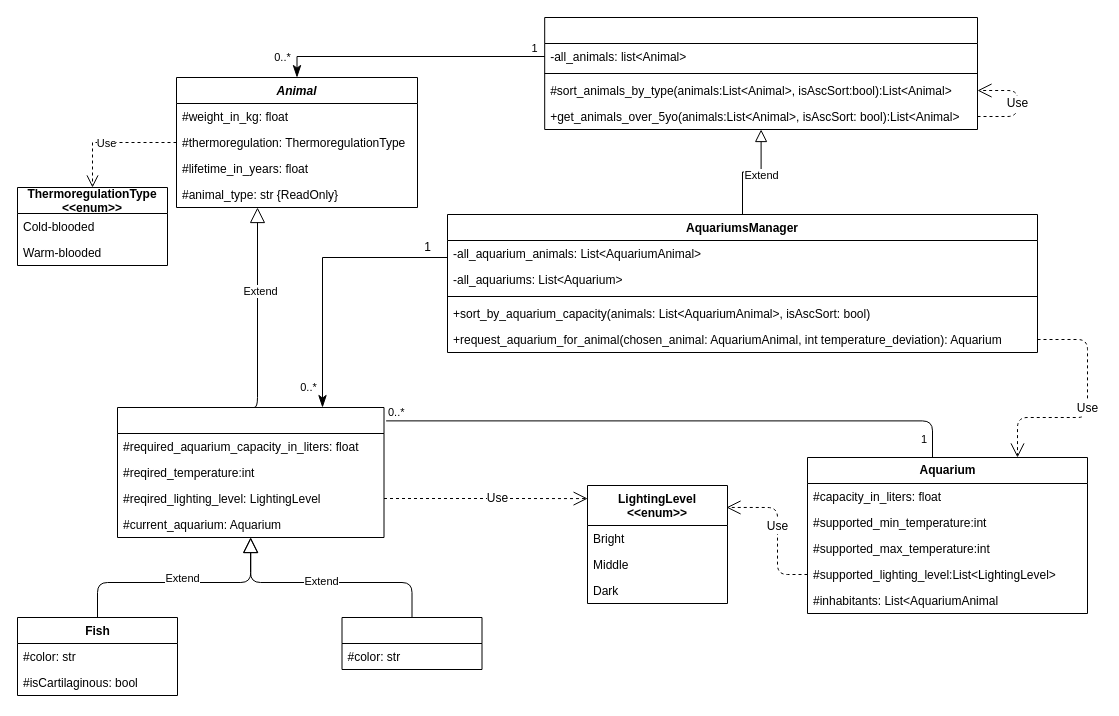
The diagram is 1119 pixels wide and 716 high, and some of its shapes have lost their labels. Here are the shapes that lost their labels. From the top down, the box of each, then its label:
(544, 16, 978, 130): ZooManager
(116, 406, 384, 538): AquariumAnimal
(341, 616, 482, 670): Octopus
